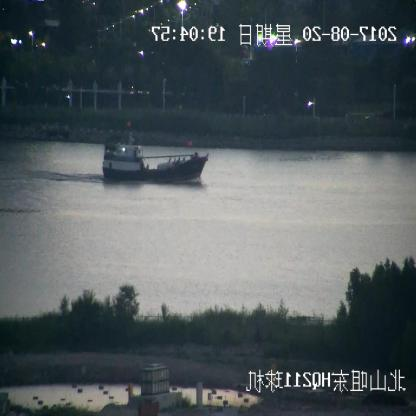Fishing Boat: (102, 131, 207, 181)
